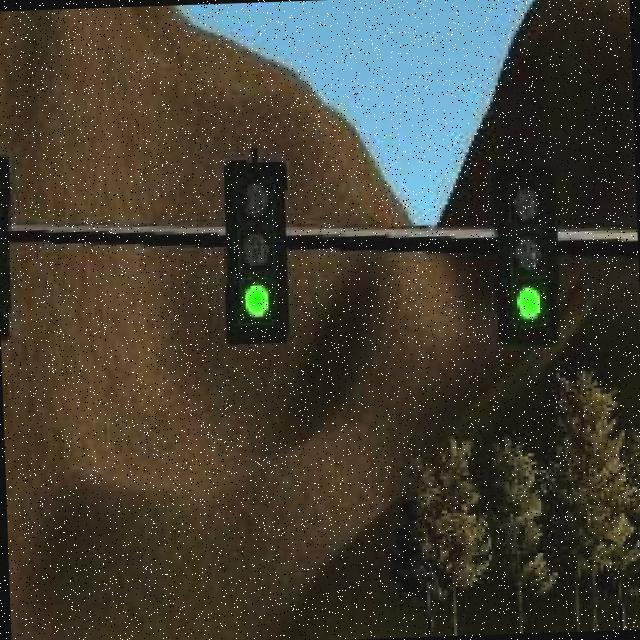Zielone swiatlo: (220, 164, 290, 335), (498, 165, 564, 342)
